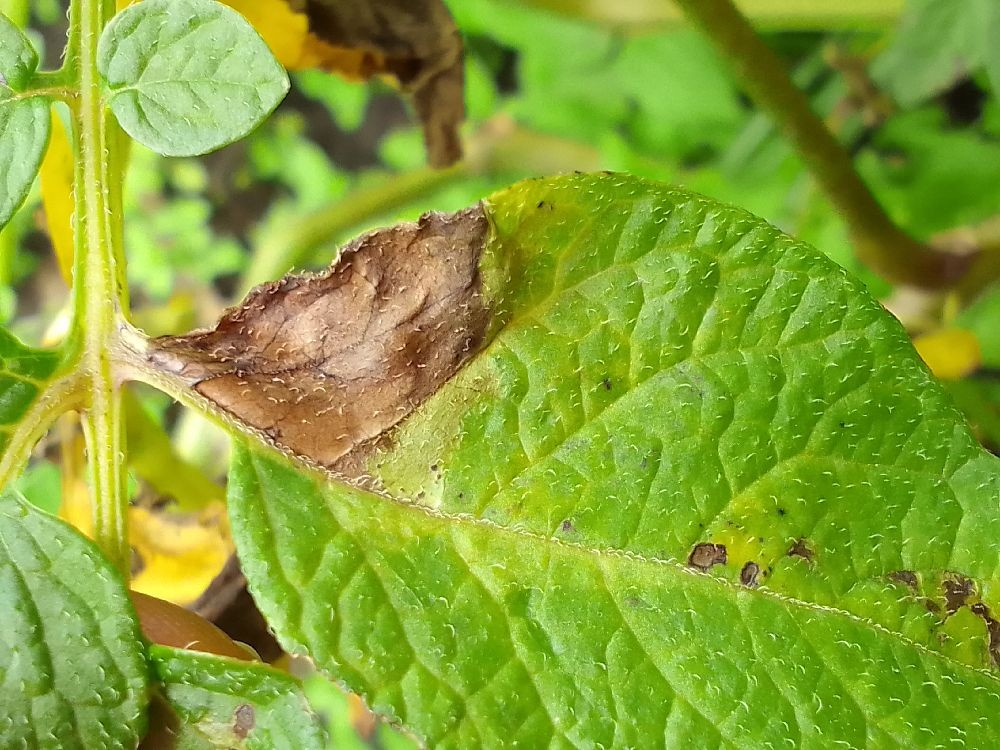late_blight: (634, 0, 1000, 426), (110, 186, 544, 512), (185, 0, 550, 212), (95, 456, 335, 698)
